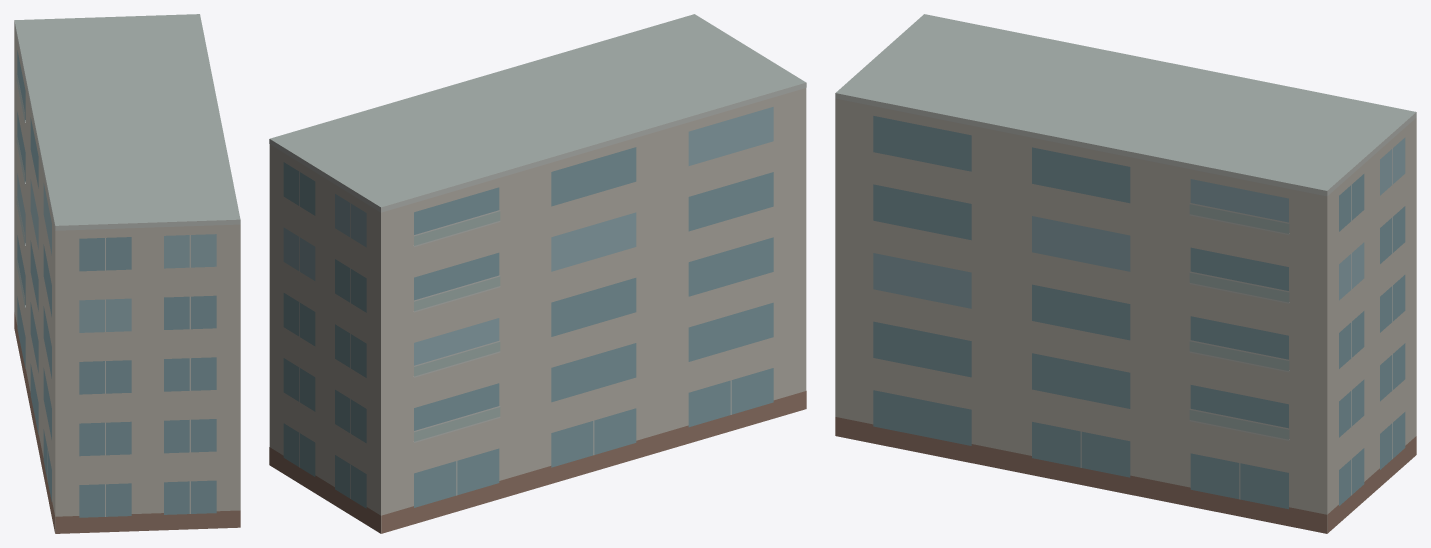
The model's file is survey-upis-32552260.glb.
The picture shows the model from 3 angles, left to right: view 1: azimuth 30°, elevation 25°; view 2: azimuth 150°, elevation 25°; view 3: azimuth 270°, elevation 25°; orthographic projection. The views are drawn at different scales.
Parts seen in each view (by area): view 1: survey-upis-32552260.tmp; view 2: survey-upis-32552260.tmp; view 3: survey-upis-32552260.tmp.
Boxes of the visible parts, <box> form: survey-upis-32552260.tmp: <box>14,14,240,533</box>; survey-upis-32552260.tmp: <box>269,14,806,533</box>; survey-upis-32552260.tmp: <box>835,14,1416,533</box>.
Size of the model in its own units: 16.89 by 15.25 by 23.43.
